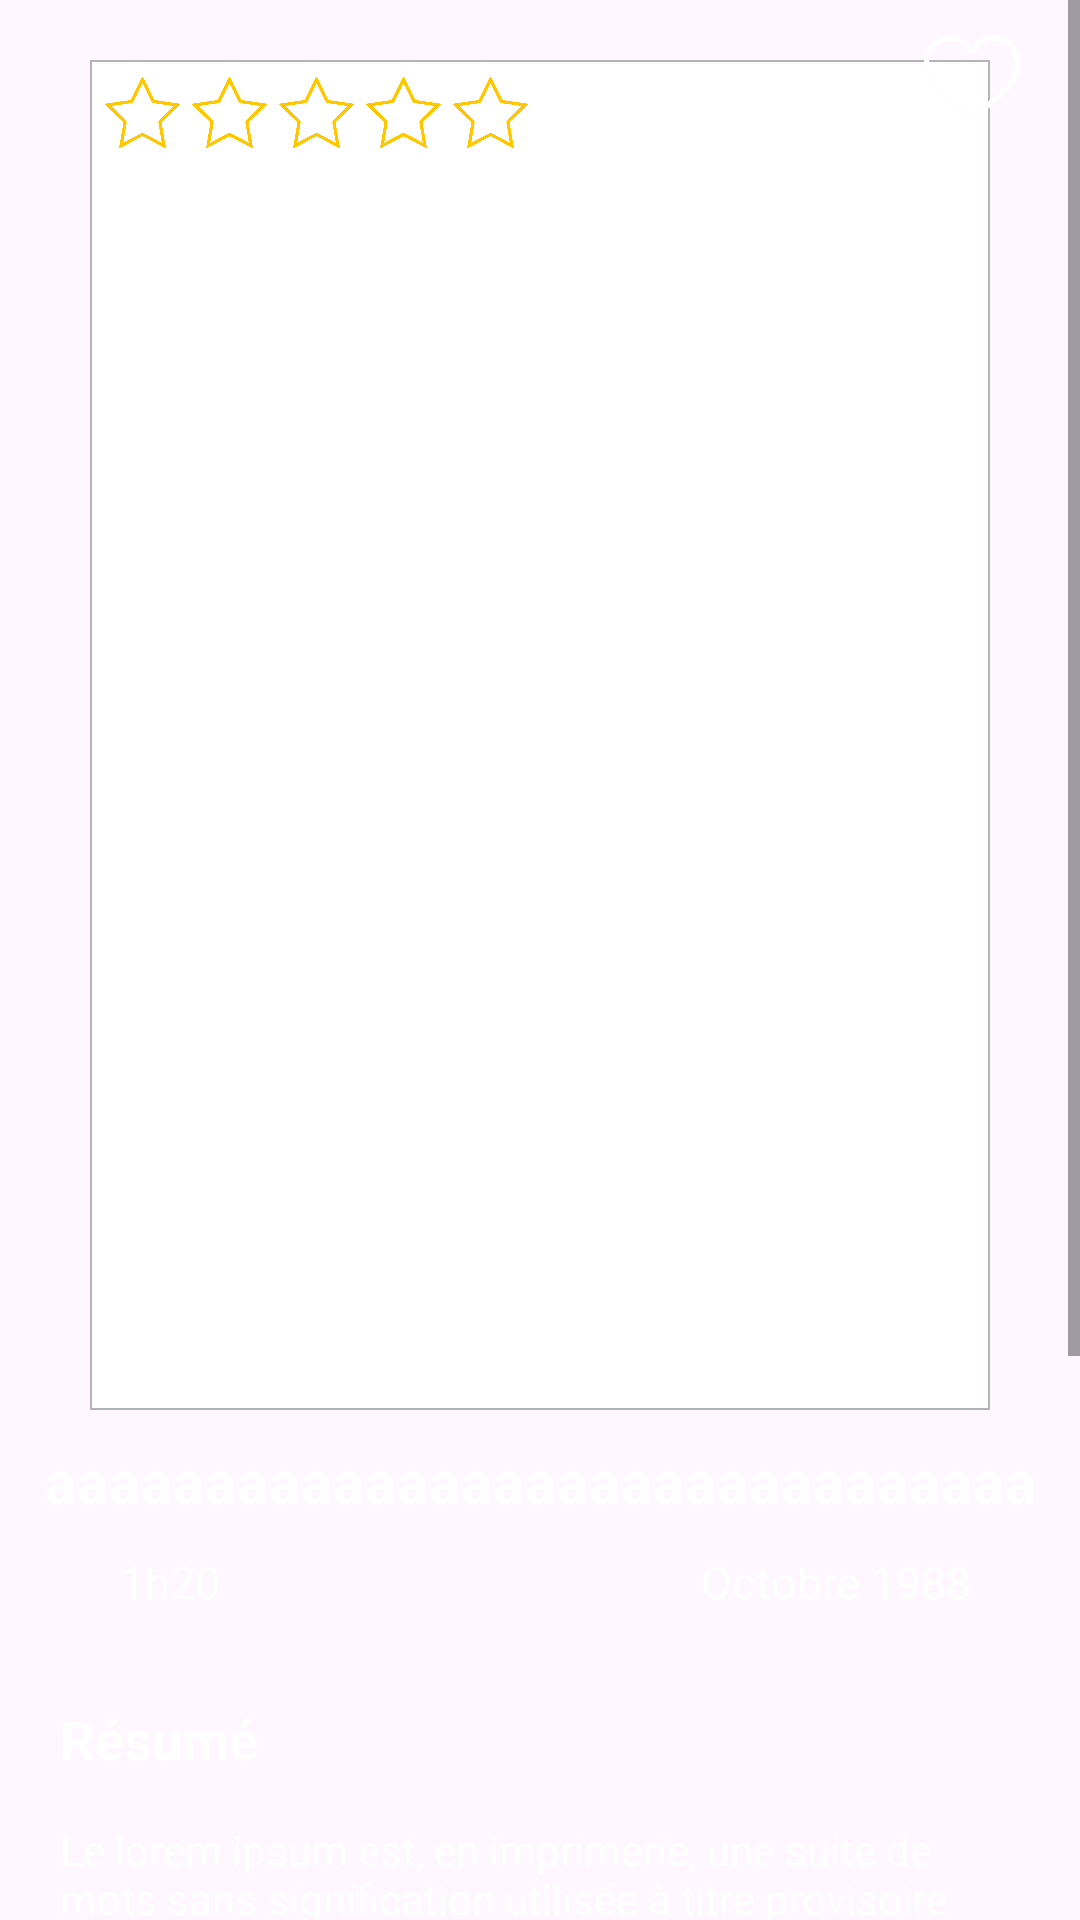

Where icons sit on this 1080x1920 app screen, as (x1=x1, y1=y1, x2=x2, y2=y2):
star not: (x1=105, y1=77, x2=180, y2=148), (x1=192, y1=77, x2=267, y2=148), (x1=279, y1=77, x2=354, y2=148), (x1=366, y1=77, x2=441, y2=148), (x1=453, y1=77, x2=528, y2=148)
